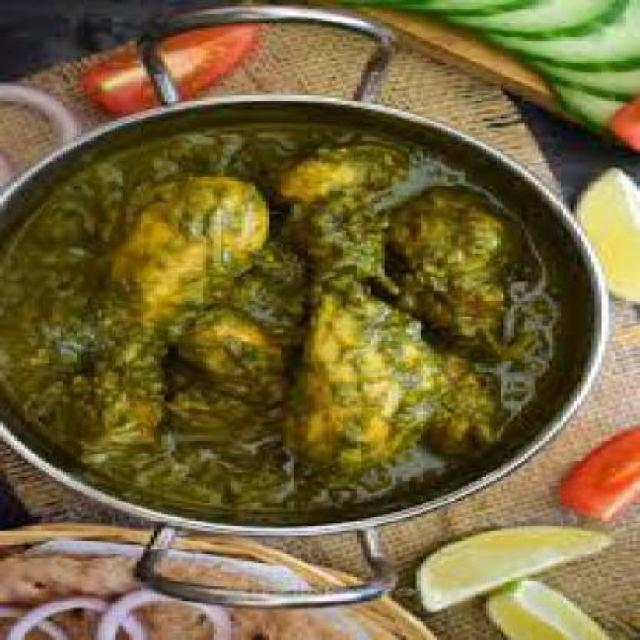CHICKEN CURRY: (0, 117, 575, 512)
